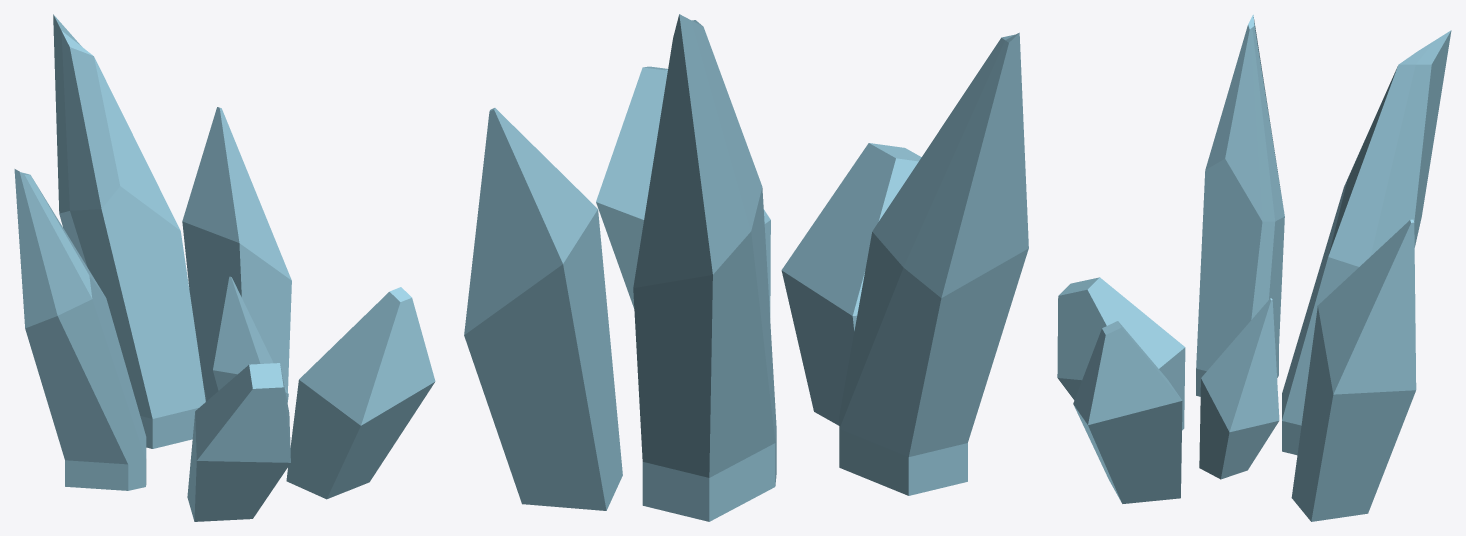
File: EFFMON6.fbx
3 views of the same model, side by side, from view 1: azimuth 30°, elevation 25°; view 2: azimuth 150°, elevation 25°; view 3: azimuth 270°, elevation 25° (orthographic). The views are drawn at different scales.
Visible parts, largest first — view 1: Cube.005; view 2: Cube.005; view 3: Cube.005.
Part boxes in pixels (<box>): Cube.005: <box>14,14,435,521</box>; Cube.005: <box>464,14,1028,521</box>; Cube.005: <box>1057,14,1451,521</box>.
Size of the model in its own units: 548 by 617 by 538.
